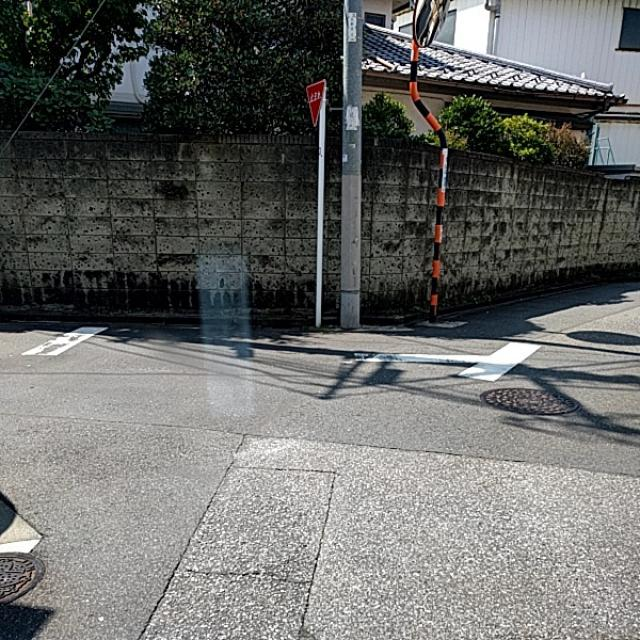pothole: (184, 491, 280, 582)
